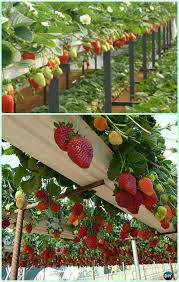Fresa: (66, 134, 97, 171), (51, 120, 78, 152), (116, 170, 139, 197), (137, 173, 157, 199), (112, 188, 132, 211), (3, 89, 17, 113)
